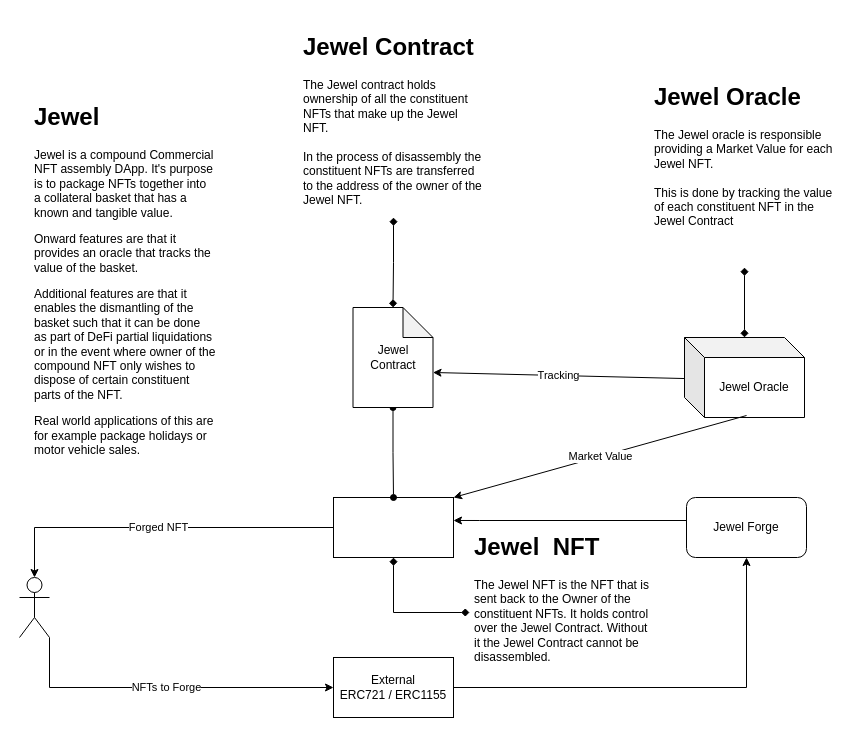
The diagram is 857 pixels wide and 735 high, and some of its shapes have lost their labels. Each missing label, with the centre of its shape:
Jewel NFT ERC6551: [393,527]
Owner: [34,607]
